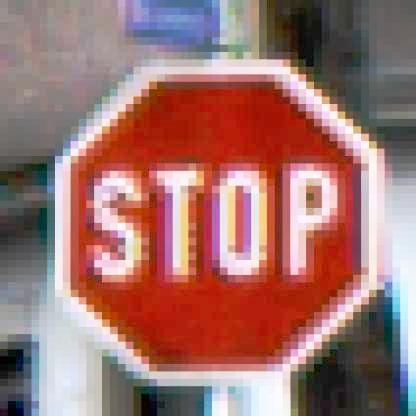Stop Sign: (49, 57, 391, 386)
